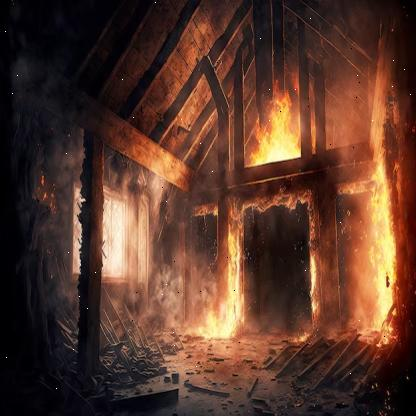fire: (367, 150, 401, 341), (247, 80, 309, 172), (202, 210, 243, 347)
smoke: (10, 58, 223, 405)
